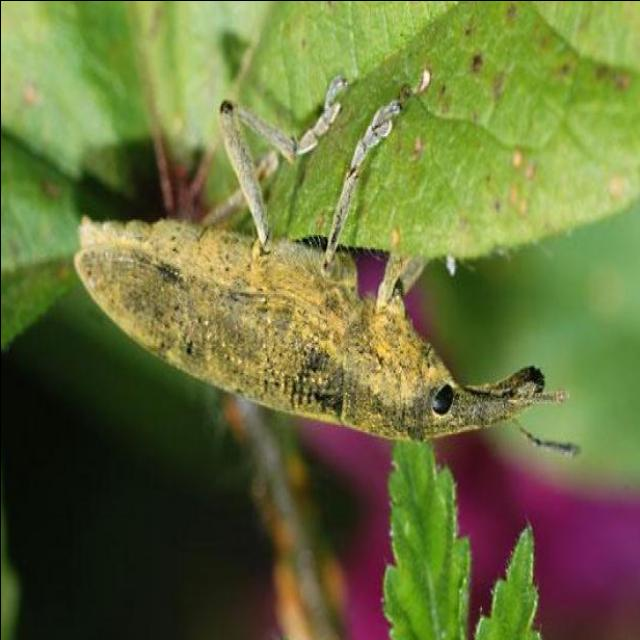ricebug: (73, 79, 565, 439)
